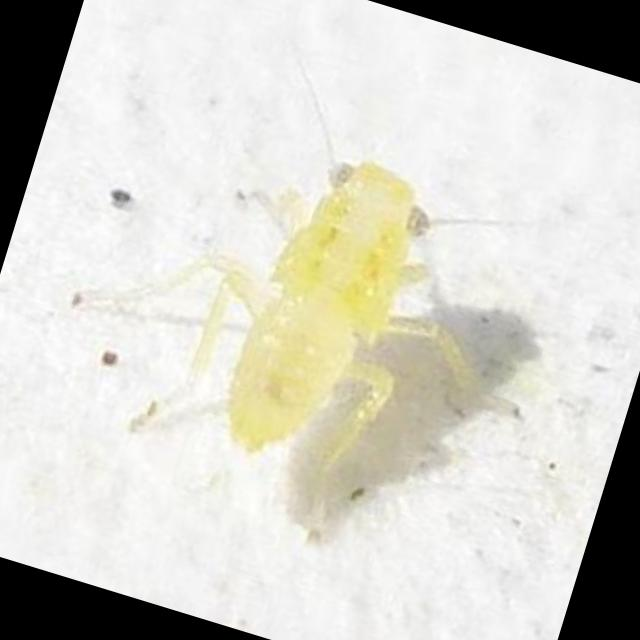green-leafhopper: (176, 130, 450, 493)
